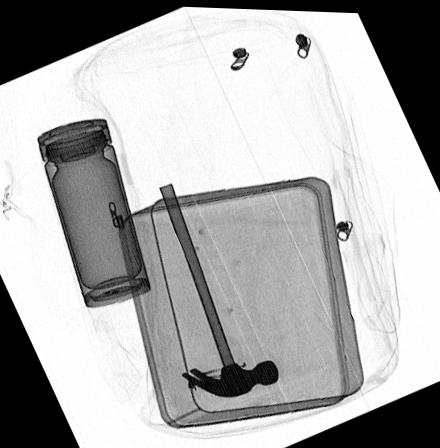Hammer: (158, 180, 280, 396)
